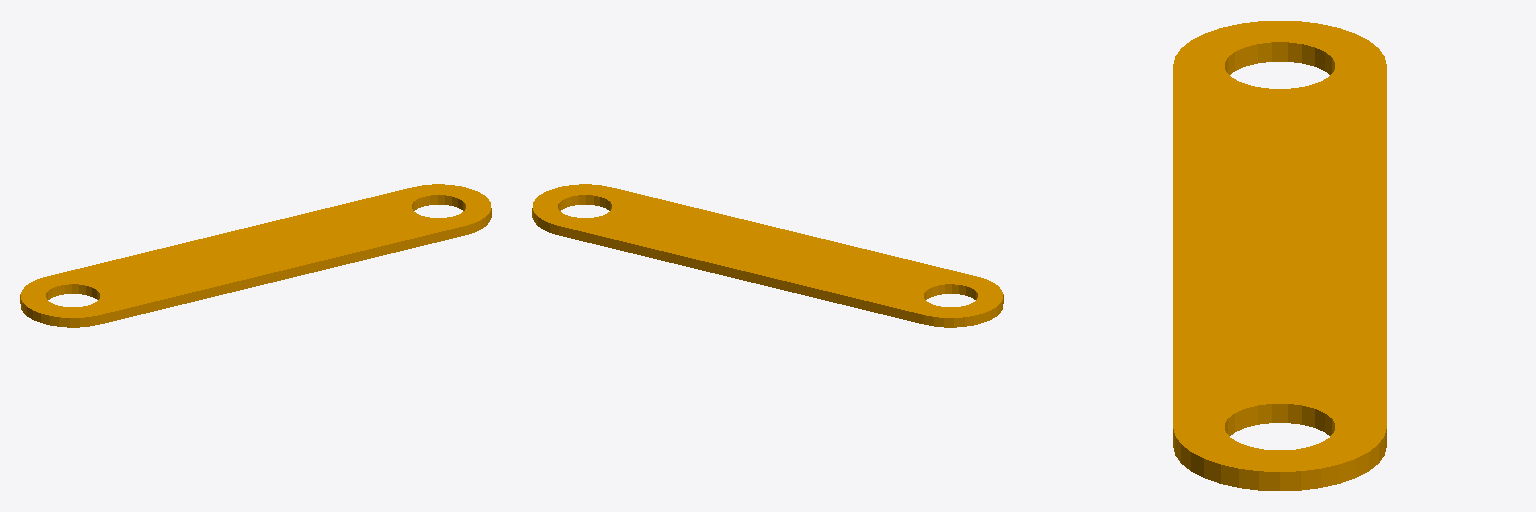
robot.urdf — bar:
<?xml version="1.0" ?>
<robot name="bar">

<material name="silver">
  <color rgba="0.700 0.700 0.700 1.000"/>
</material>

<link name="base_link">

  <inertial>
    <origin xyz="4.175964388207829e-17 -1.0439910970519572e-17 0.005" rpy="0 0 0"/>
    <mass value="0.4355854682770655"/>
    <inertia ixx="0.00037887239640157366" iyy="0.007460945692609496" izz="0.007832558331206453" ixy="-1.899008742933724e-34" iyz="0.0" ixz="0.0"/>
  </inertial>
  <visual>
    <origin xyz="0 0 0" rpy="0 0 0"/>
    <geometry>
      <mesh filename="meshes/bar.obj" scale="0.001 0.001 0.001"/>
    </geometry>
    <material name="silver"/>
    <material/>
  </visual>
  <collision concave="yes">
    <origin xyz="0 0 0" rpy="0 0 0"/>
    <geometry>
      <mesh filename="meshes/bar.obj" scale="0.001 0.001 0.001"/>
    </geometry>
  </collision>
</link>

</robot>

--- Render facts (derived) ---
The picture shows the robot from 3 angles, left to right: view 1: azimuth 30°, elevation 25°; view 2: azimuth 150°, elevation 25°; view 3: azimuth 270°, elevation 25°; orthographic projection.
Robot: bar — 1 links, 0 joints (none); root link base_link; default pose: all joints at 0.
Links seen in each view (by area): view 1: base_link; view 2: base_link; view 3: base_link.
Link boxes in pixels (x1,y1,x2,y2): base_link: [20, 184, 491, 327]; base_link: [532, 184, 1003, 327]; base_link: [1173, 21, 1386, 490].
Bounding box of the posed robot: 0.5 × 0.1 × 0.01 m (x, y, z).
1 mesh visuals loaded from 1 distinct referenced files (1 OBJ).